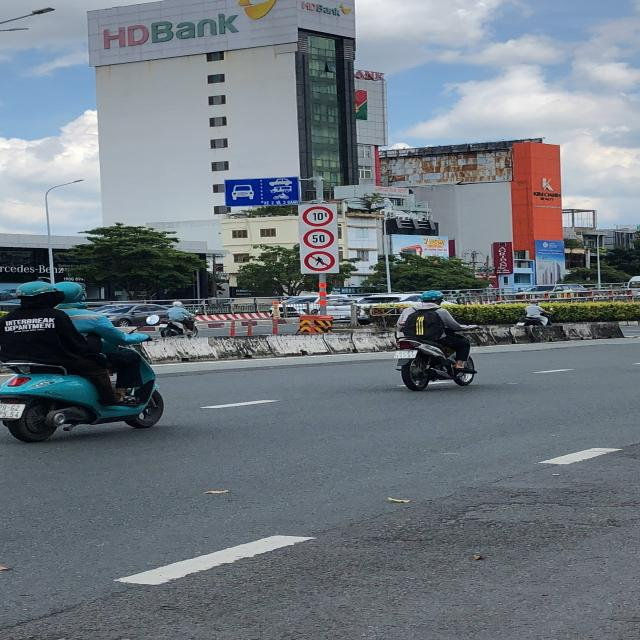Bien bao cam nguoi di bo: (301, 250, 338, 271)
Bien bao toc do toi da cho phep: (302, 228, 338, 250)
